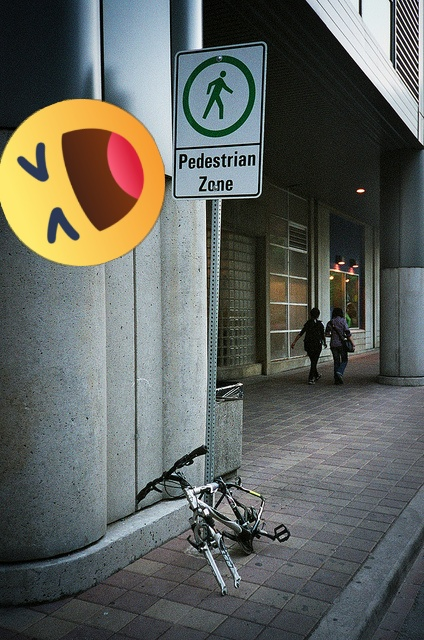haha: (0, 99, 165, 266)
